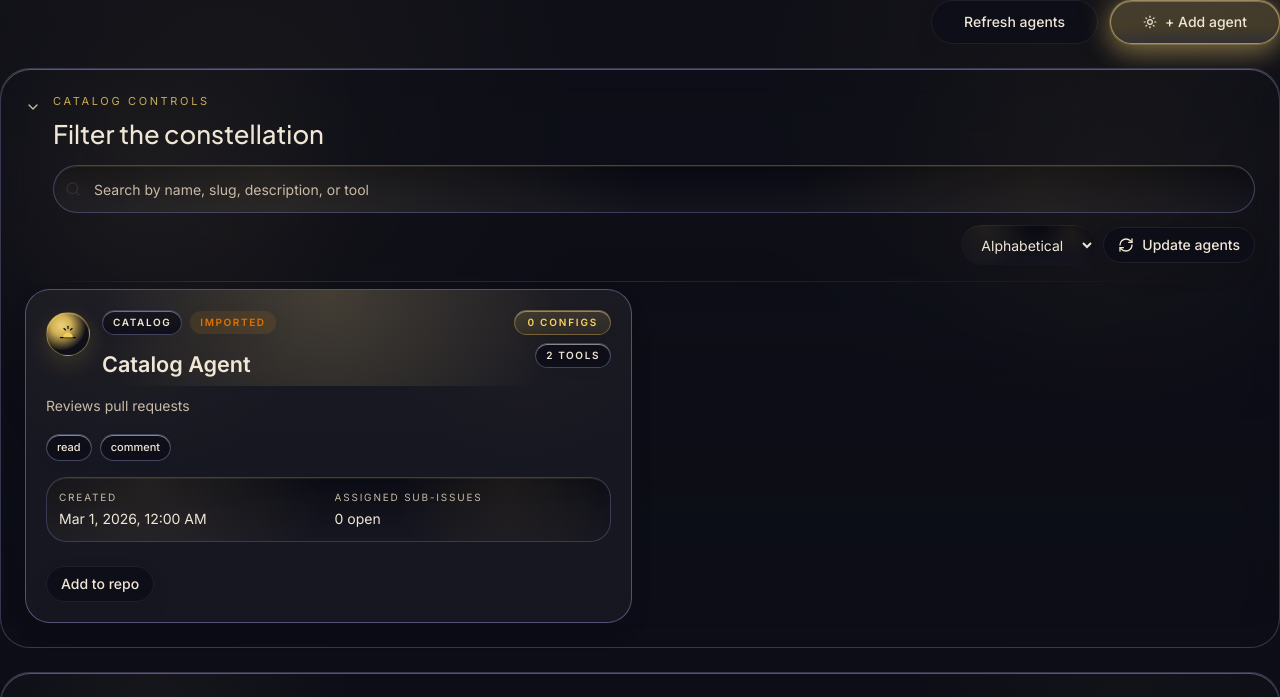
Scenario: AgentsPanel › opens the install confirmation dialog for imported agents
Click the button "Add to repo": (100, 584) [46,566,154,602]
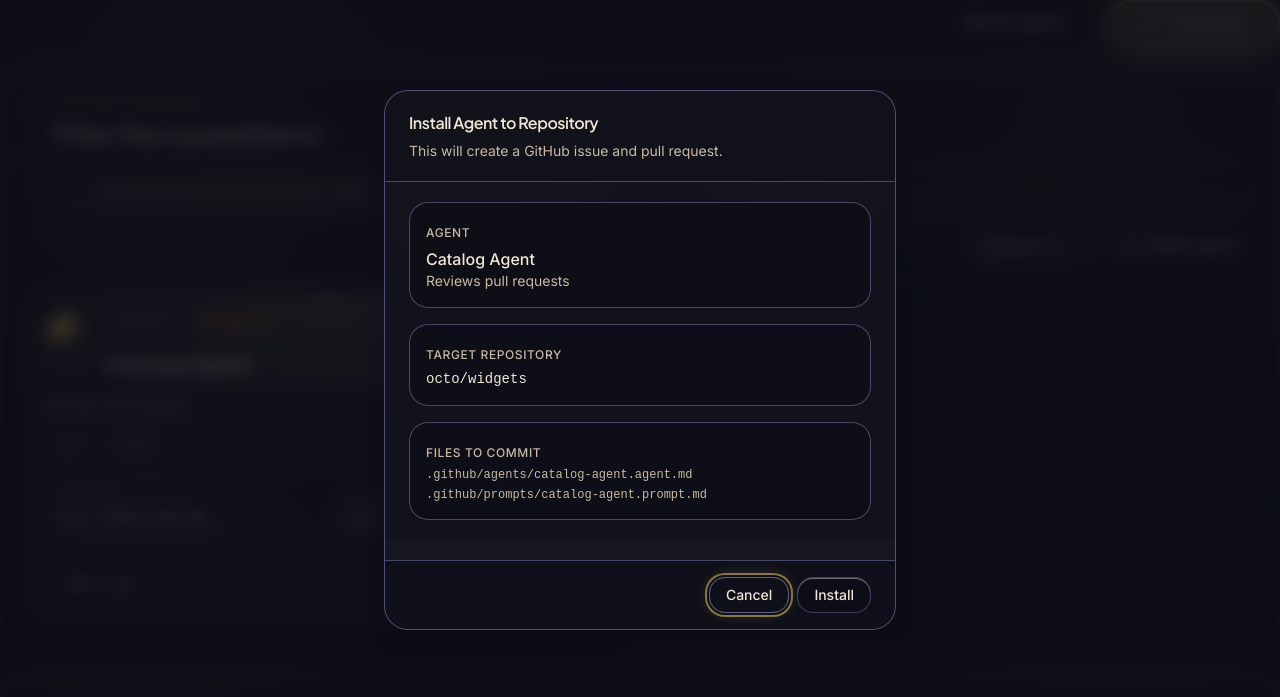
Now the heading "Install Agent to Repository" is shown, box [409,112,598,133]
Now the text "octo/widgets" is shown, box [426,371,527,387]
Now the text ".github/agents/catalog-agent.agent.md" is shown, box [426,468,692,482]
